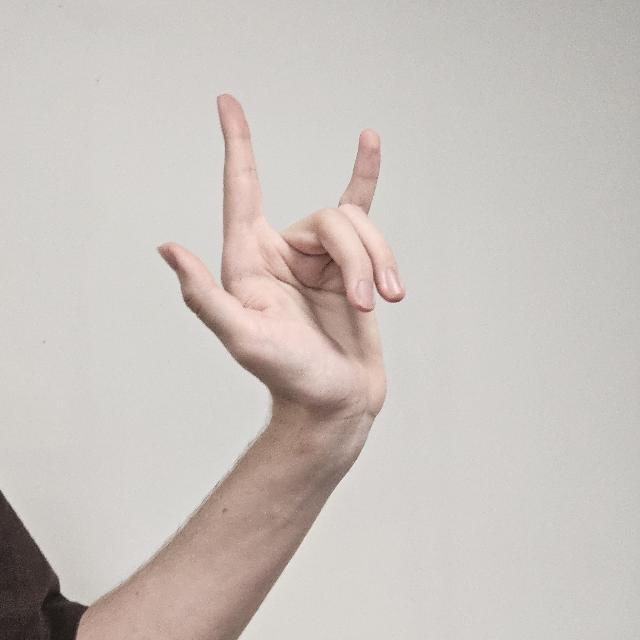Cima: (158, 84, 406, 432)
